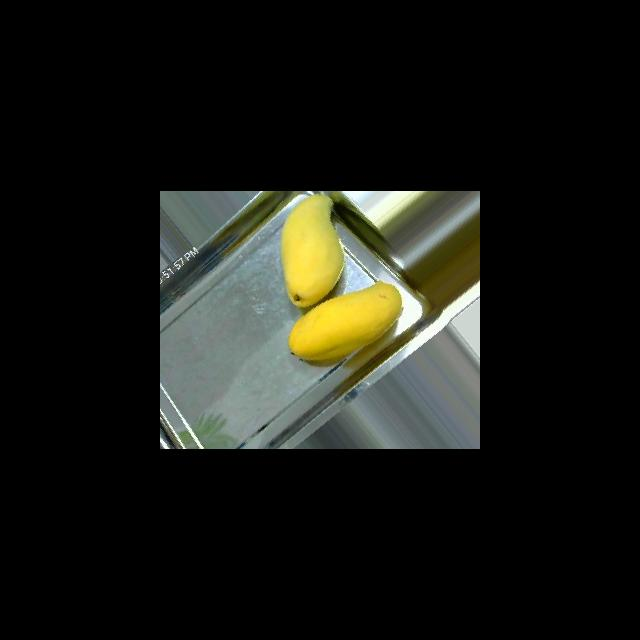mango: (287, 279, 402, 365), (279, 193, 345, 307)
